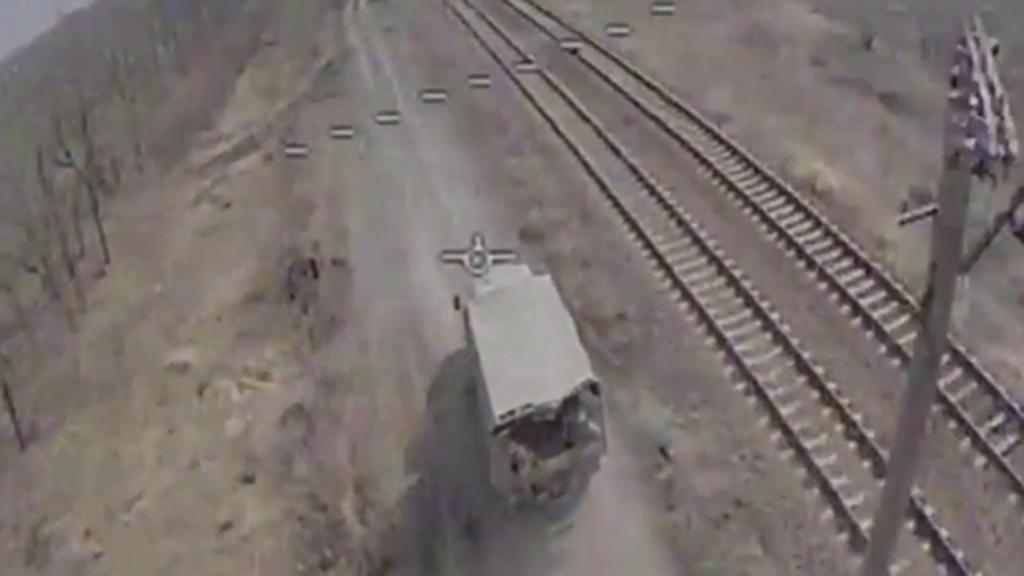CAR: (444, 262, 610, 500)
